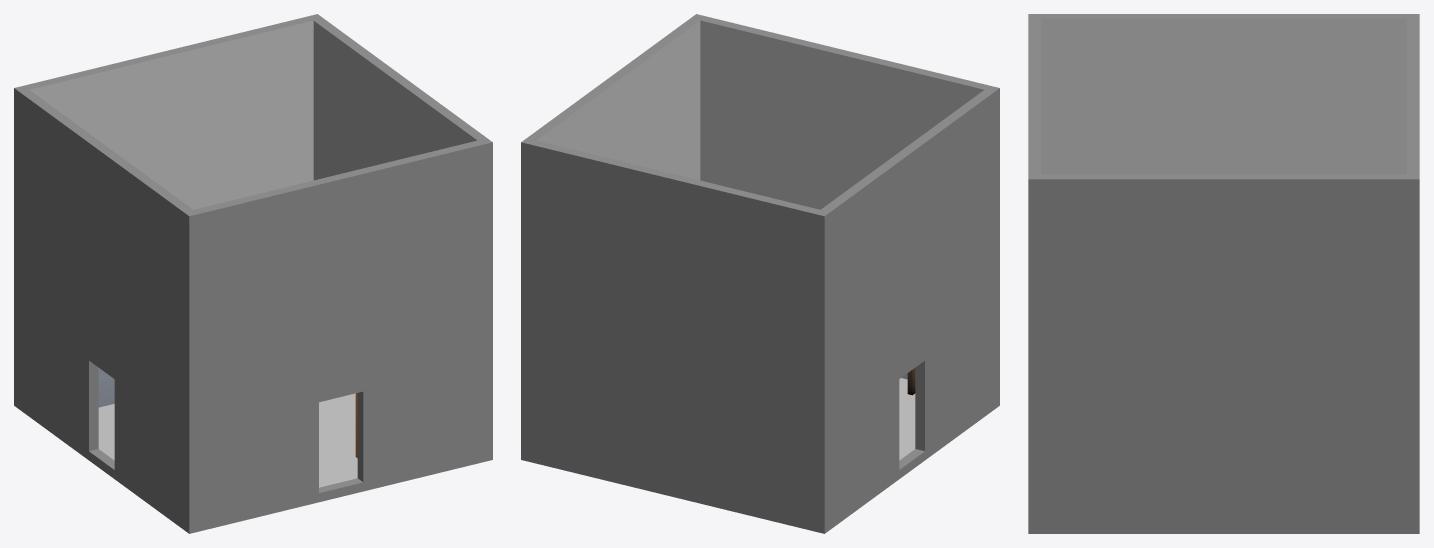
Rendered from Kitchen.FBX.
The picture shows the model from 3 angles, left to right: view 1: azimuth 30°, elevation 25°; view 2: azimuth 150°, elevation 25°; view 3: azimuth 270°, elevation 25°; orthographic projection. The views are drawn at different scales.
Parts seen in each view (by area): view 1: Kitchen; view 2: Kitchen; view 3: Kitchen.
Part boxes in pixels (x1,y1,x2,y2): Kitchen: (14, 14, 492, 533); Kitchen: (521, 14, 999, 533); Kitchen: (1028, 14, 1419, 533).
Bounding box in the file's own units: 500 × 500 × 500.
